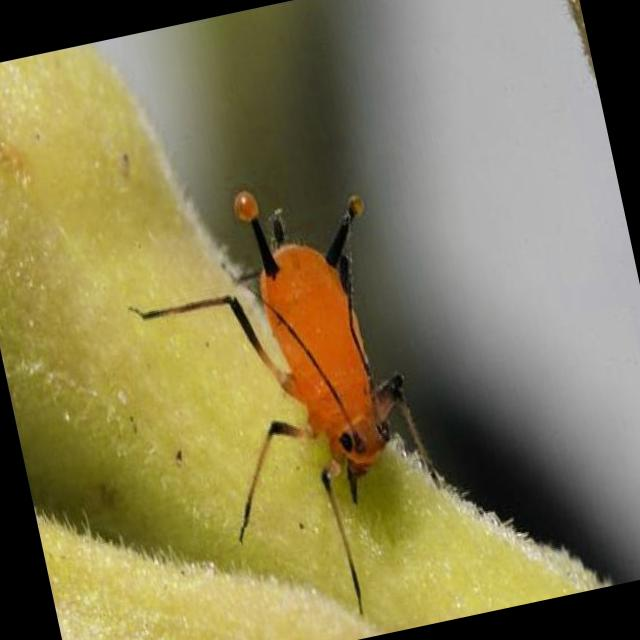aphid: (110, 152, 474, 606)
